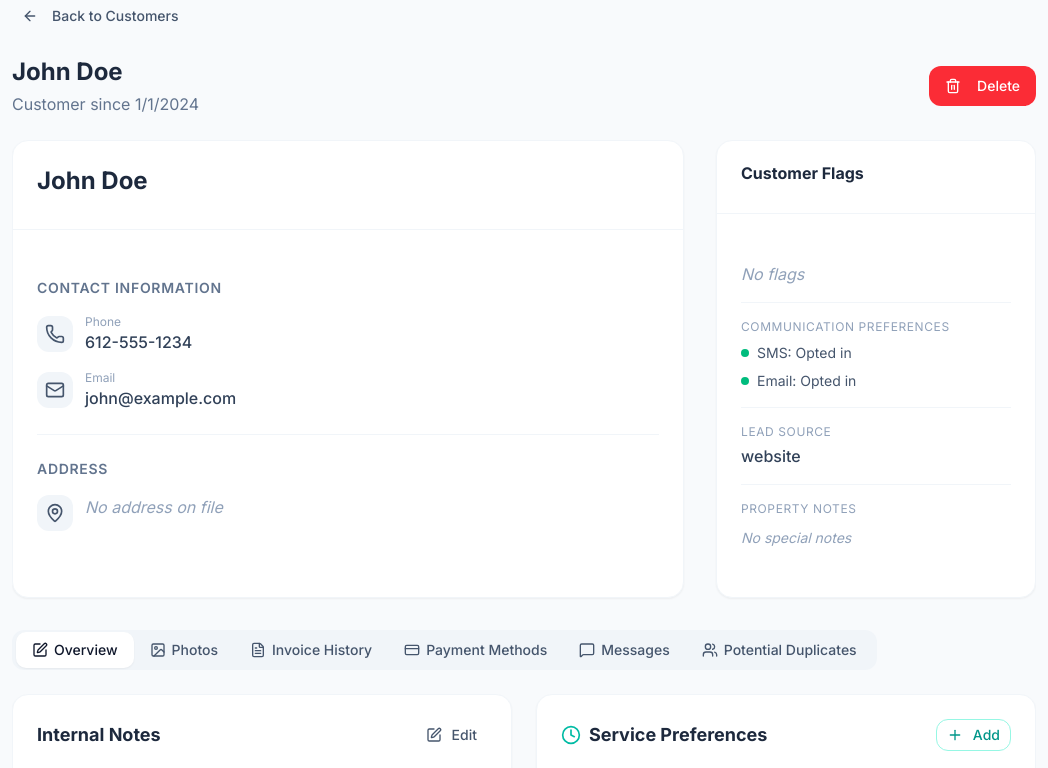
Test: CustomerDetail › switches to Messages tab
The width and height of the screenshot is (1048, 768).
Click the tab with test id "tab-messages" at x=625, y=650, box [563, 632, 686, 668]
(page scrolled)
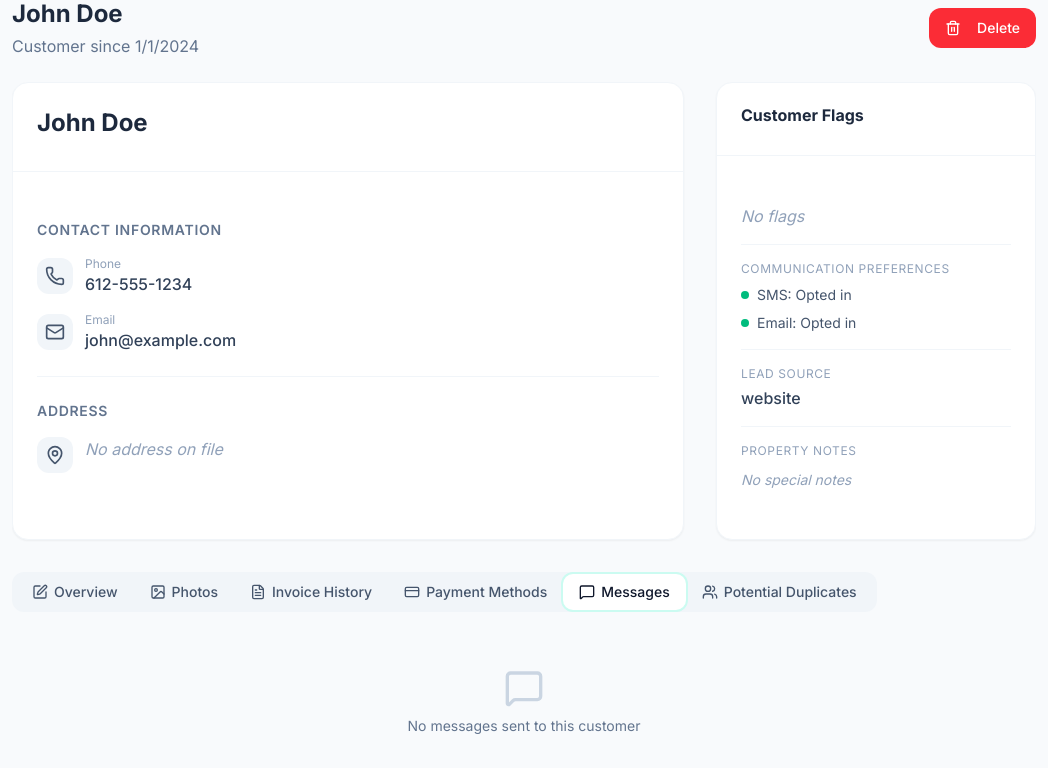
Check: the element with test id "messages-empty" is shown, box [408, 668, 640, 734]
